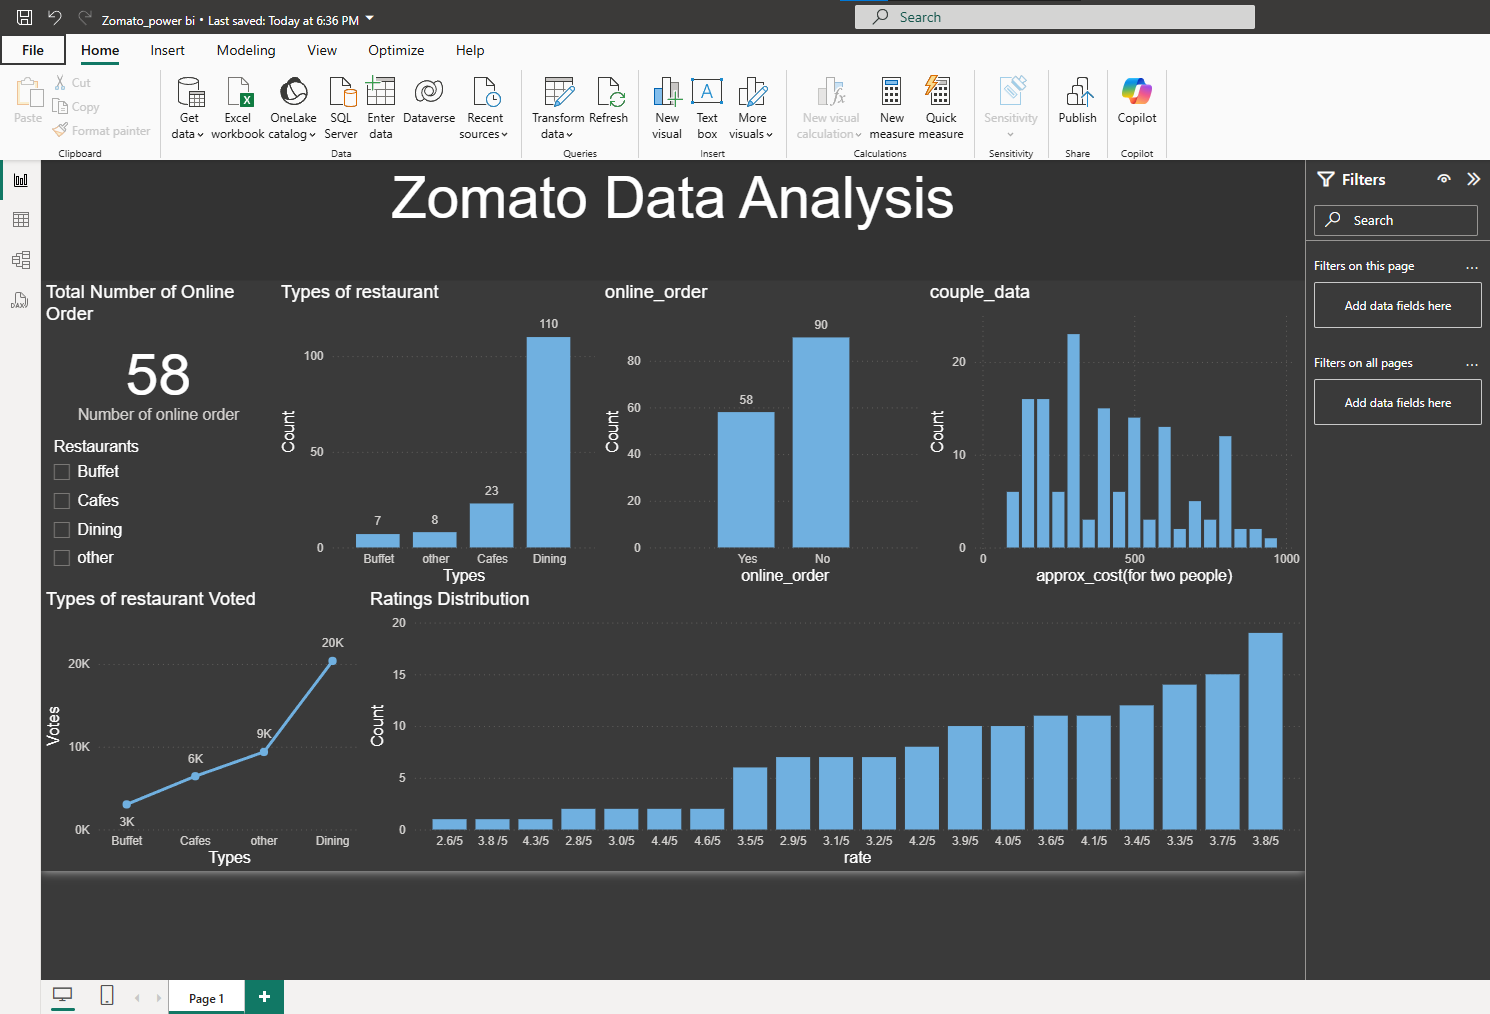

This screenshot's page, from the dashboard's own definition file:
{"tool":"powerbi","page":{"name":"Page 1","canvas":[1280,720],"ordinal":0},"visuals":[{"type":"columnChart","title":"Types of restaurant","fields":{"Category":["Zomato.listed_in(type)"],"Y":["CountNonNull(Zomato.listed_in(type))"]},"box":[238,122.5,328.1,311.9],"z":0},{"type":"lineChart","title":"Types of restaurant Voted","fields":{"Category":["Zomato.listed_in(type)"],"Y":["Sum(Zomato.votes)"]},"box":[0,433.4,328.1,286.6],"z":1000},{"type":"columnChart","title":"online_order","fields":{"Category":["Zomato.online_order"],"Y":["CountNonNull(Zomato.online_order)"]},"box":[566.1,122.5,329.1,311.9],"z":2000},{"type":"clusteredColumnChart","title":"Ratings Distribution","fields":{"Category":["Zomato.rate"],"Y":["CountNonNull(Zomato.rate)"]},"box":[328.1,433.4,951.9,286.6],"z":3000},{"type":"columnChart","title":"couple_data","fields":{"Y":["CountNonNull(Zomato.approx_cost(for two people))"],"Category":["Zomato.approx_cost(for two people)"]},"box":[895.2,122.5,384.8,311.9],"z":4000},{"type":"textbox","box":[0,0,1280,122.1],"z":4001},{"type":"card","title":"Total Number of Online Order ","fields":{"Values":["Sum(Zomato.online order)"]},"box":[0,122.5,238,153.9],"z":4002},{"type":"slicer","title":"Restaurants","fields":{"Values":["Zomato.listed_in(type)"]},"box":[0,276.5,238,157],"z":4003}]}

Visuals, with their boxes on the page's 1280x720 design canvas (x1, y1, x2, y2). These are canvas units, not pixel positions in the 1490x1014 screenshot, which may show the page scaled, cropped or inside an application window:
"Types of restaurant" columnChart: [left=238, top=122, right=566, bottom=434]
"Types of restaurant Voted" lineChart: [left=0, top=433, right=328, bottom=720]
"online_order" columnChart: [left=566, top=122, right=895, bottom=434]
"Ratings Distribution" clusteredColumnChart: [left=328, top=433, right=1280, bottom=720]
"couple_data" columnChart: [left=895, top=122, right=1280, bottom=434]
textbox: [left=0, top=0, right=1280, bottom=122]
"Total Number of Online Order " card: [left=0, top=122, right=238, bottom=276]
"Restaurants" slicer: [left=0, top=276, right=238, bottom=434]
